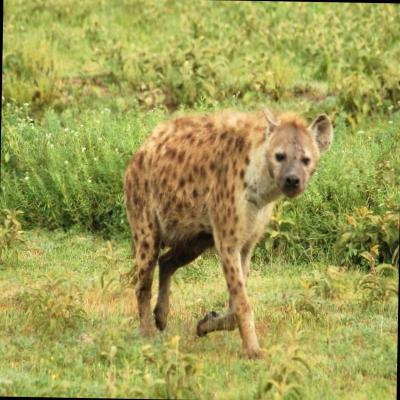hyenas: (86, 106, 336, 356)
